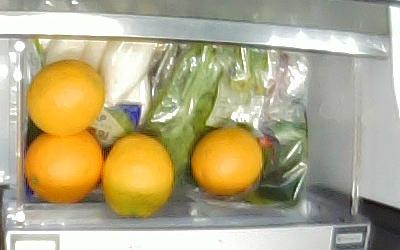orange: (102, 133, 173, 218), (27, 59, 106, 135), (23, 129, 103, 202), (190, 126, 262, 195)
